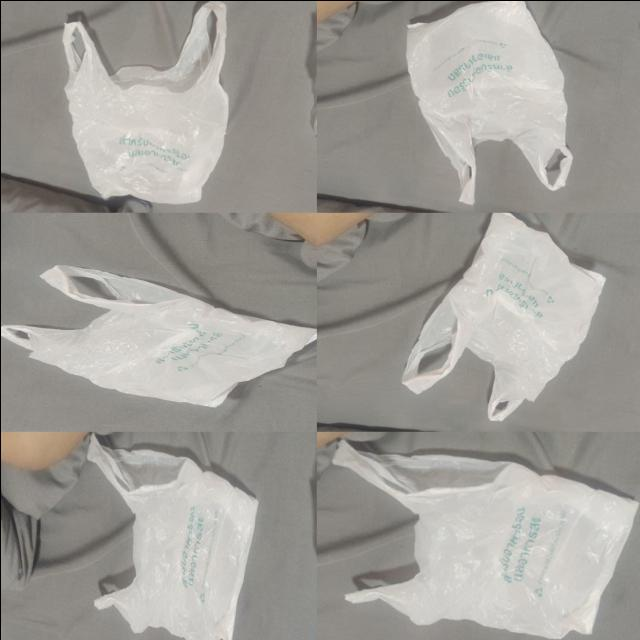plastik: (332, 442, 637, 638), (0, 265, 316, 406), (402, 212, 605, 420), (88, 436, 257, 640), (406, 0, 571, 203), (62, 0, 227, 203)
